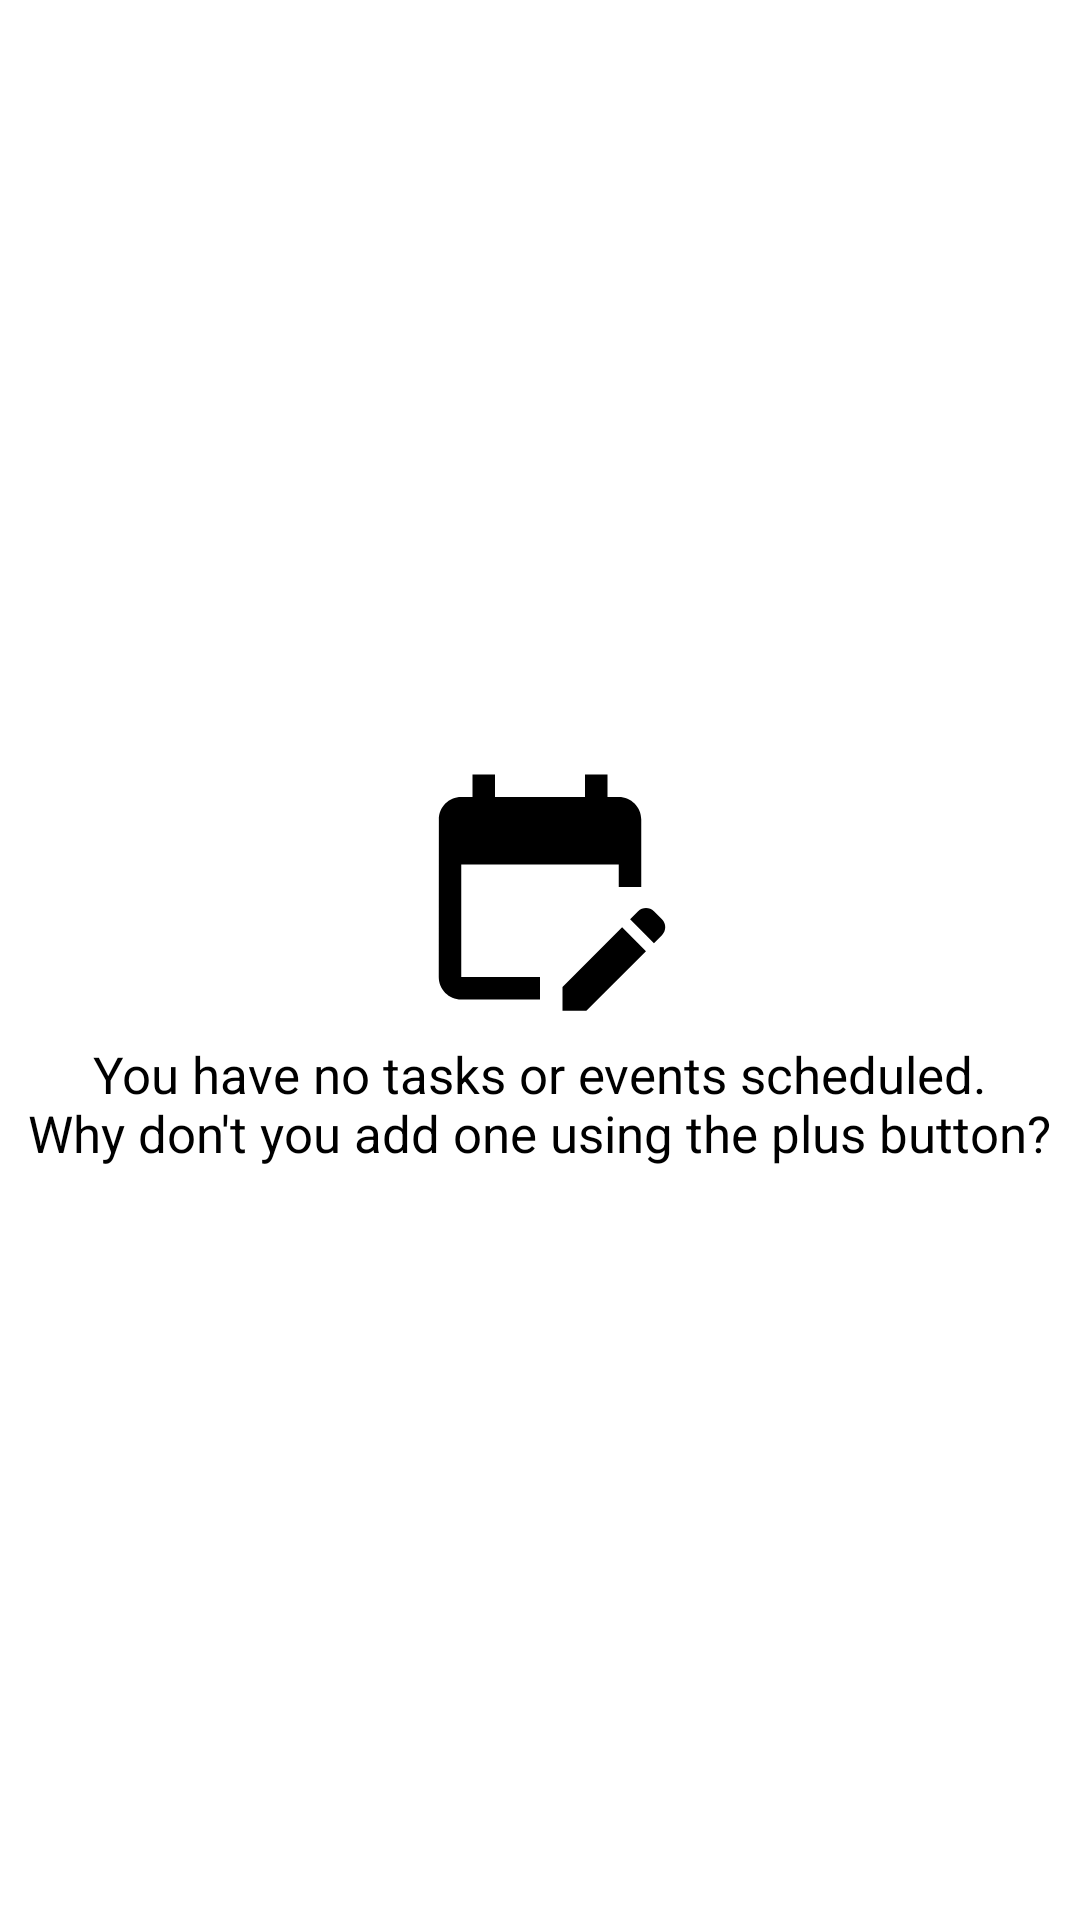

Point at icon controls on the screen. Image size 1080px×1920px, points as [x,y].
A calendar with a pencil in front of it: [552,892]
